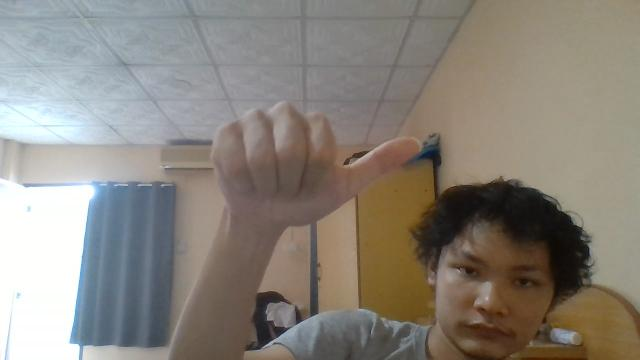left: (209, 100, 421, 228)
